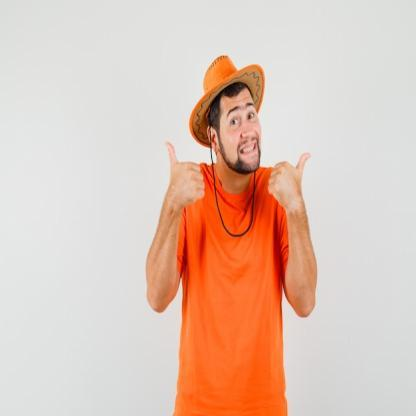thumb_up: (154, 136, 206, 208), (266, 146, 310, 208)
